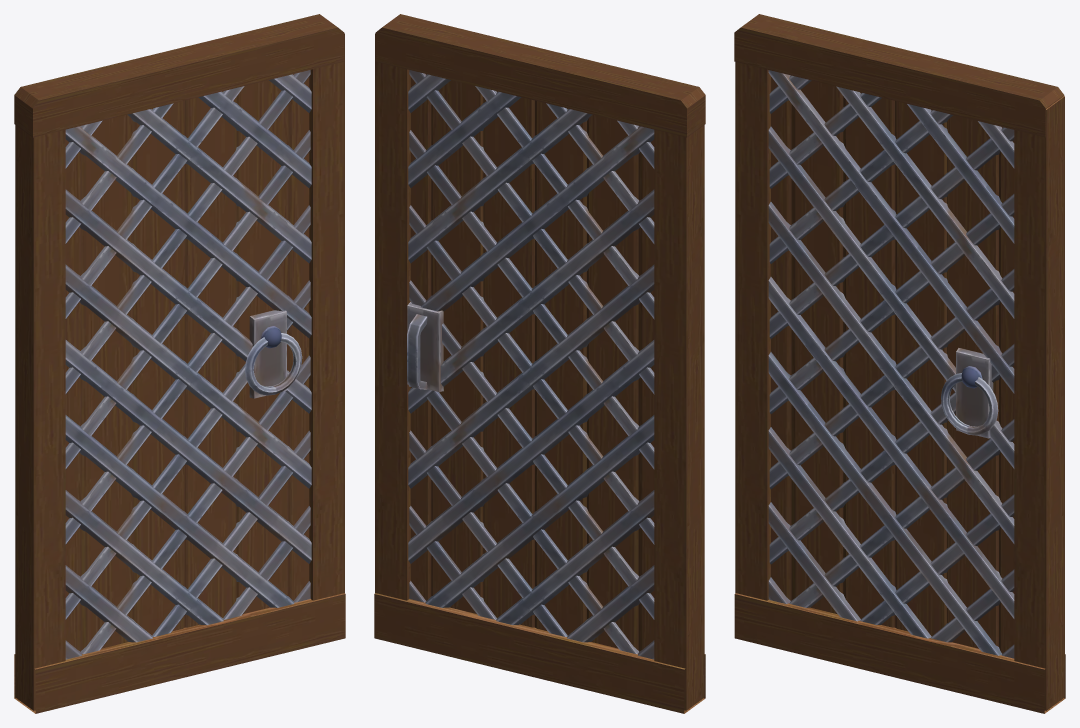
File: Door_4_Flat.gltf
The picture shows the model from 3 angles, left to right: view 1: azimuth 30°, elevation 25°; view 2: azimuth 150°, elevation 25°; view 3: azimuth 330°, elevation 25°; orthographic projection.
Visible parts, largest first — view 1: Door_4_Flat; view 2: Door_4_Flat; view 3: Door_4_Flat.
Part boxes in pixels (x1,y1,x2,y2): Door_4_Flat: (14,14,345,713); Door_4_Flat: (374,14,705,713); Door_4_Flat: (734,14,1065,713).
Size of the model in its own units: 1.12 by 2.09 by 0.2093.
2 materials, 2 textured.
